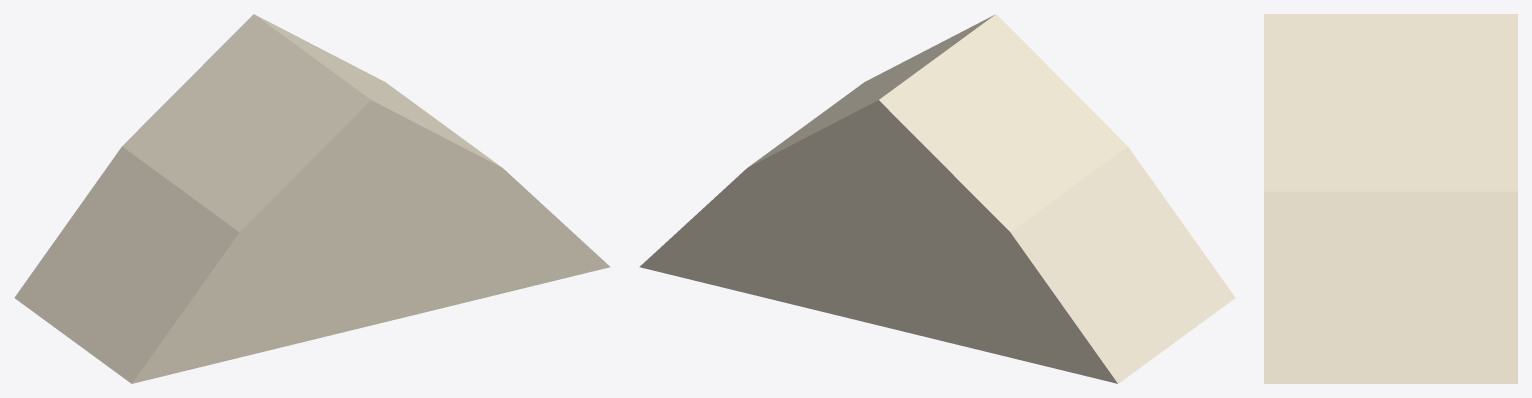
The model's file is xy_item_paperboat.glb.
The picture shows the model from 3 angles, left to right: view 1: azimuth 30°, elevation 25°; view 2: azimuth 150°, elevation 25°; view 3: azimuth 270°, elevation 25°; orthographic projection. The views are drawn at different scales.
Visible parts, largest first — view 1: xy_item_paperboat; view 2: xy_item_paperboat; view 3: xy_item_paperboat.
Boxes of the visible parts, x1,y1,x2,y2 form: xy_item_paperboat: [14, 14, 610, 383]; xy_item_paperboat: [639, 14, 1235, 383]; xy_item_paperboat: [1264, 14, 1517, 383].
Size of the model in its own units: 0.8 by 0.36 by 0.34.
